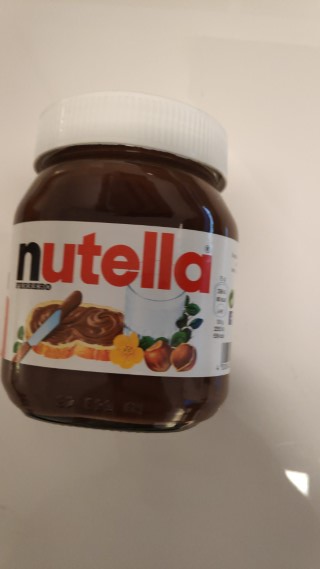nutella: (1, 86, 242, 436)
